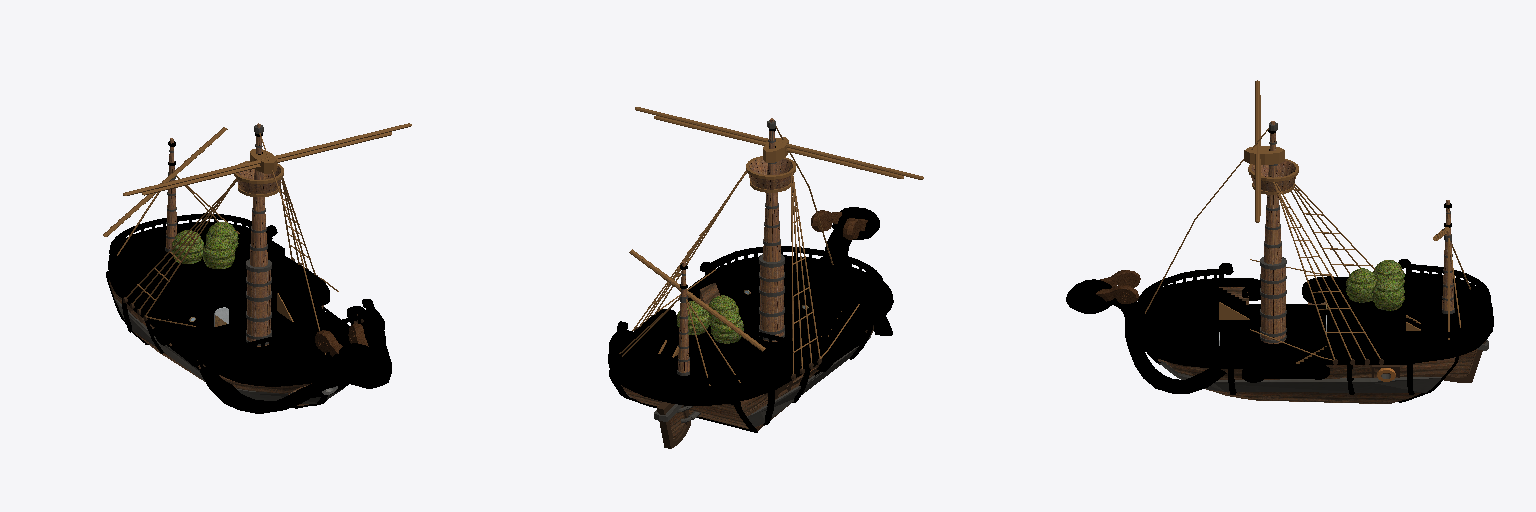
3 views of the same model, side by side, from view 1: azimuth 30°, elevation 25°; view 2: azimuth 150°, elevation 25°; view 3: azimuth 270°, elevation 25° (orthographic).
Visible parts, largest first — view 1: polySurface1025polySurface1391polySurface1393polySurface1515, polySurface1025polySurface1391polySurface1393polySurface1575, polySurface1025polySurface1391polySurface1393polySurface1552, polySurface1025polySurface1391polySurface1393polySurface1292, polySurface1025polySurface1391polySurface1393polySurface1585, polySurface1025polySurface1391polySurface1393polySurface1316, polySurface1025polySurface1391polySurface1393polySurface1384, polySurface1025polySurface1391polySurface1393polySurface1363, polySurface1025polySurface1391polySurface1393polySurface1377, polySurface1025polySurface1391polySurface1393polySurface1382, polySurface1025polySurface1391polySurface1393polySurface1502, polySurface1025polySurface1391polySurface1393polySurface1511 (+10 smaller); view 2: polySurface1025polySurface1391polySurface1393polySurface1585, polySurface1025polySurface1391polySurface1393polySurface1515, polySurface1025polySurface1391polySurface1393polySurface1292, polySurface1025polySurface1391polySurface1393polySurface1552, polySurface1025polySurface1391polySurface1393polySurface1306, polySurface1025polySurface1391polySurface1393polySurface1571, polySurface1025polySurface1391polySurface1393polySurface1402, polySurface1025polySurface1391polySurface1393polySurface1460, polySurface1025polySurface1391polySurface1393polySurface1377, polySurface1025polySurface1391polySurface1393polySurface1502, polySurface1025polySurface1391polySurface1393polySurface1446, polySurface1025polySurface1391polySurface1393polySurface1382 (+9 smaller); view 3: polySurface1025polySurface1391polySurface1393polySurface1552, polySurface1025polySurface1391polySurface1393polySurface1515, polySurface1025polySurface1391polySurface1393polySurface1585, polySurface1025polySurface1391polySurface1393polySurface1382, polySurface1025polySurface1391polySurface1393polySurface1292, polySurface1025polySurface1391polySurface1393polySurface1575, polySurface1025polySurface1391polySurface1393polySurface1282, polySurface1025polySurface1391polySurface1393polySurface1446, polySurface1025polySurface1391polySurface1393polySurface1502, polySurface1025polySurface1391polySurface1393polySurface1316, polySurface1025polySurface1391polySurface1393polySurface1460, polySurface1025polySurface1391polySurface1393polySurface1571 (+13 smaller).
Part boxes in pixels (x1,y1,x2,y2): polySurface1025polySurface1391polySurface1393polySurface1515: (131, 257, 309, 318); polySurface1025polySurface1391polySurface1393polySurface1575: (200, 346, 391, 413); polySurface1025polySurface1391polySurface1393polySurface1552: (171, 306, 345, 358); polySurface1025polySurface1391polySurface1393polySurface1292: (118, 230, 269, 289); polySurface1025polySurface1391polySurface1393polySurface1585: (222, 325, 374, 374); polySurface1025polySurface1391polySurface1393polySurface1316: (333, 343, 379, 379); polySurface1025polySurface1391polySurface1393polySurface1384: (205, 328, 385, 386); polySurface1025polySurface1391polySurface1393polySurface1363: (166, 284, 310, 336); polySurface1025polySurface1391polySurface1393polySurface1377: (123, 123, 411, 195); polySurface1025polySurface1391polySurface1393polySurface1382: (114, 298, 343, 403); polySurface1025polySurface1391polySurface1393polySurface1502: (208, 306, 384, 366); polySurface1025polySurface1391polySurface1393polySurface1511: (203, 235, 234, 268); polySurface1025polySurface1391polySurface1393polySurface1585: (723, 262, 875, 315); polySurface1025polySurface1391polySurface1393polySurface1515: (639, 319, 807, 369); polySurface1025polySurface1391polySurface1393polySurface1292: (618, 339, 760, 385); polySurface1025polySurface1391polySurface1393polySurface1552: (734, 300, 851, 357); polySurface1025polySurface1391polySurface1393polySurface1306: (611, 322, 809, 405); polySurface1025polySurface1391polySurface1393polySurface1571: (608, 330, 788, 398); polySurface1025polySurface1391polySurface1393polySurface1402: (716, 279, 868, 322); polySurface1025polySurface1391polySurface1393polySurface1460: (609, 330, 773, 383); polySurface1025polySurface1391polySurface1393polySurface1377: (635, 107, 923, 179); polySurface1025polySurface1391polySurface1393polySurface1502: (711, 246, 885, 303); polySurface1025polySurface1391polySurface1393polySurface1446: (621, 330, 873, 421); polySurface1025polySurface1391polySurface1393polySurface1382: (626, 335, 870, 426); polySurface1025polySurface1391polySurface1393polySurface1552: (1219, 304, 1326, 375); polySurface1025polySurface1391polySurface1393polySurface1515: (1328, 286, 1405, 353); polySurface1025polySurface1391polySurface1393polySurface1585: (1145, 284, 1218, 354); polySurface1025polySurface1391polySurface1393polySurface1382: (1159, 361, 1441, 392); polySurface1025polySurface1391polySurface1393polySurface1292: (1406, 279, 1482, 346); polySurface1025polySurface1391polySurface1393polySurface1575: (1125, 335, 1226, 393); polySurface1025polySurface1391polySurface1393polySurface1282: (1206, 389, 1420, 403); polySurface1025polySurface1391polySurface1393polySurface1446: (1162, 357, 1455, 379); polySurface1025polySurface1391polySurface1393polySurface1502: (1138, 269, 1221, 352); polySurface1025polySurface1391polySurface1393polySurface1316: (1066, 279, 1113, 313); polySurface1025polySurface1391polySurface1393polySurface1460: (1411, 264, 1491, 340); polySurface1025polySurface1391polySurface1393polySurface1571: (1392, 274, 1493, 358).
Bounding box in the file's own units: 31.62 × 28.12 × 40.61.
25 materials, 13 textured.